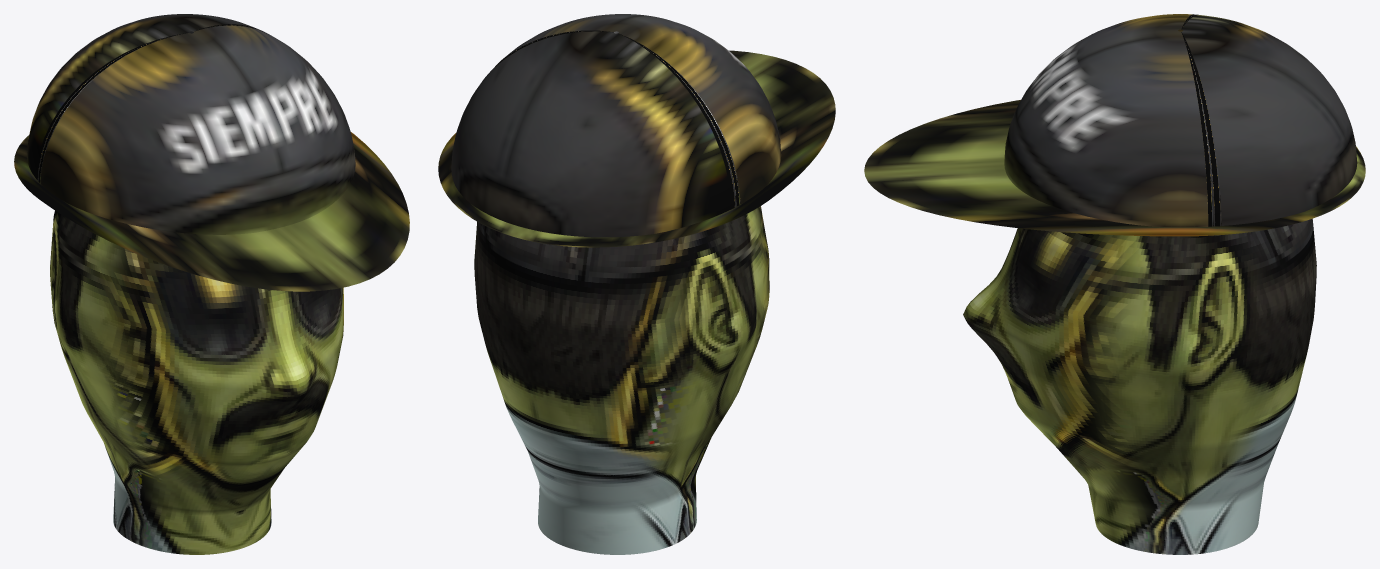
File: head.glb
3 views of the same model, side by side, from view 1: azimuth 30°, elevation 25°; view 2: azimuth 150°, elevation 25°; view 3: azimuth 270°, elevation 25° (orthographic).
Parts seen in each view (by area): view 1: dan source head and dimensional accessories; view 2: dan source head and dimensional accessories; view 3: dan source head and dimensional accessories.
Boxes of the visible parts, x1,y1,x2,y2 form: dan source head and dimensional accessories: [14, 14, 409, 554]; dan source head and dimensional accessories: [438, 14, 835, 554]; dan source head and dimensional accessories: [864, 14, 1365, 554].
Size of the model in its own units: 0.29 by 0.445 by 0.412.
Materials: 2 (2 with a texture image).
